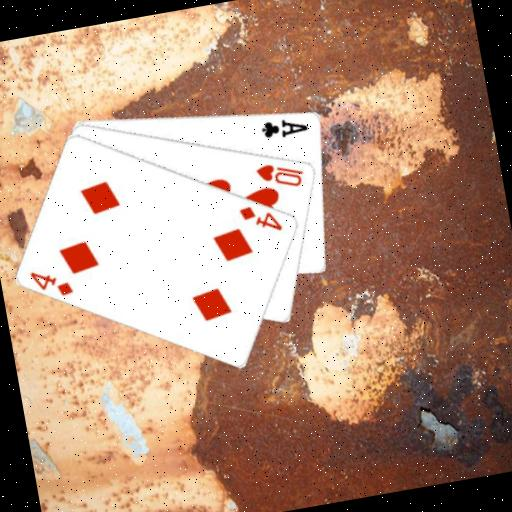10H: (251, 154, 307, 194)
4D: (235, 196, 285, 238), (26, 262, 76, 303)
AC: (257, 111, 311, 142)
